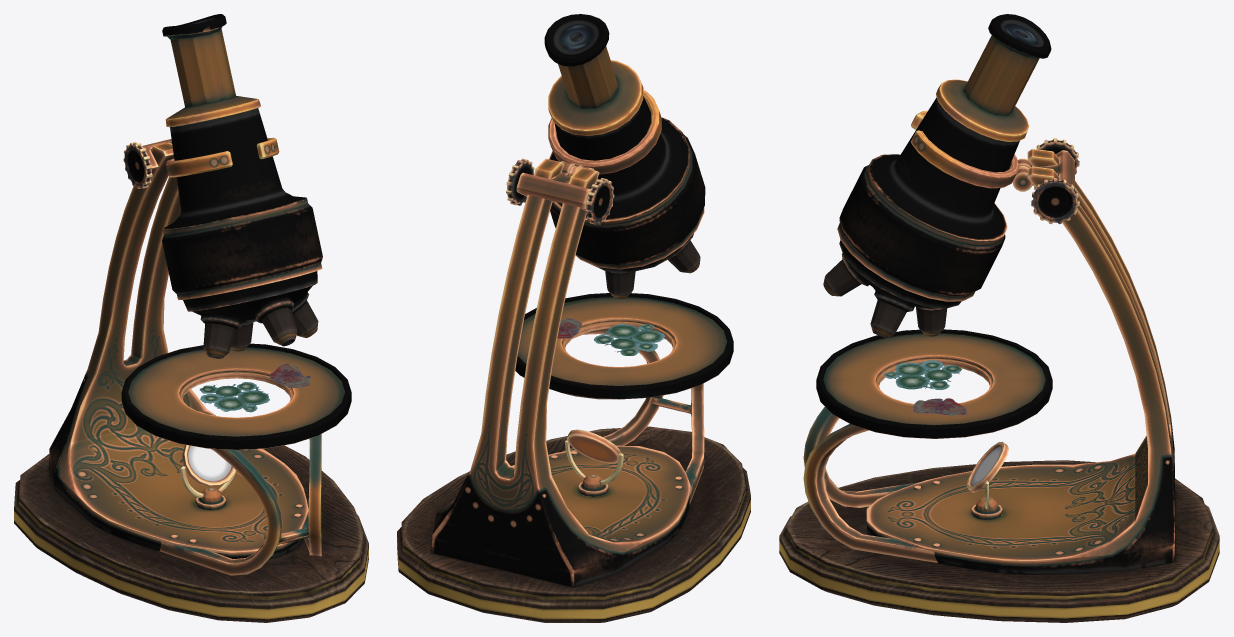
File: microscope.FBX
3 views of the same model, side by side, from view 1: azimuth 30°, elevation 25°; view 2: azimuth 150°, elevation 25°; view 3: azimuth 270°, elevation 25° (orthographic). The views are drawn at different scales.
Parts seen in each view (by area): view 1: 4, 6, 5, 007, 008, 1, 3, 009; view 2: 4, 6, 007, 1, 2, 3, 5, 008; view 3: 4, 6, 007, 5, 1, 3, 008, 2, 009.
Part boxes in pixels (box(x1,y1,x2,y2)): 4: box(14, 142, 368, 622); 6: box(162, 14, 322, 300); 5: box(183, 271, 318, 358); 007: box(159, 434, 321, 575); 008: box(199, 382, 269, 412); 1: box(165, 137, 279, 177); 3: box(123, 142, 152, 188); 009: box(269, 363, 310, 387); 4: box(397, 158, 750, 622); 6: box(544, 14, 705, 269); 007: box(562, 328, 704, 504); 1: box(548, 90, 661, 174); 2: box(516, 161, 594, 210); 3: box(506, 158, 614, 224); 5: box(588, 234, 700, 298); 008: box(594, 324, 665, 355); 4: box(779, 149, 1219, 622); 6: box(837, 14, 1051, 301); 007: box(803, 366, 944, 562); 5: box(823, 240, 961, 338); 1: box(911, 110, 1019, 188); 3: box(1031, 138, 1079, 224); 008: box(884, 360, 961, 389); 2: box(1012, 150, 1074, 191); 009: box(912, 398, 966, 415).
Size of the model in its own units: 38.75 by 70.77 by 52.82.
1 material, 1 textured.
